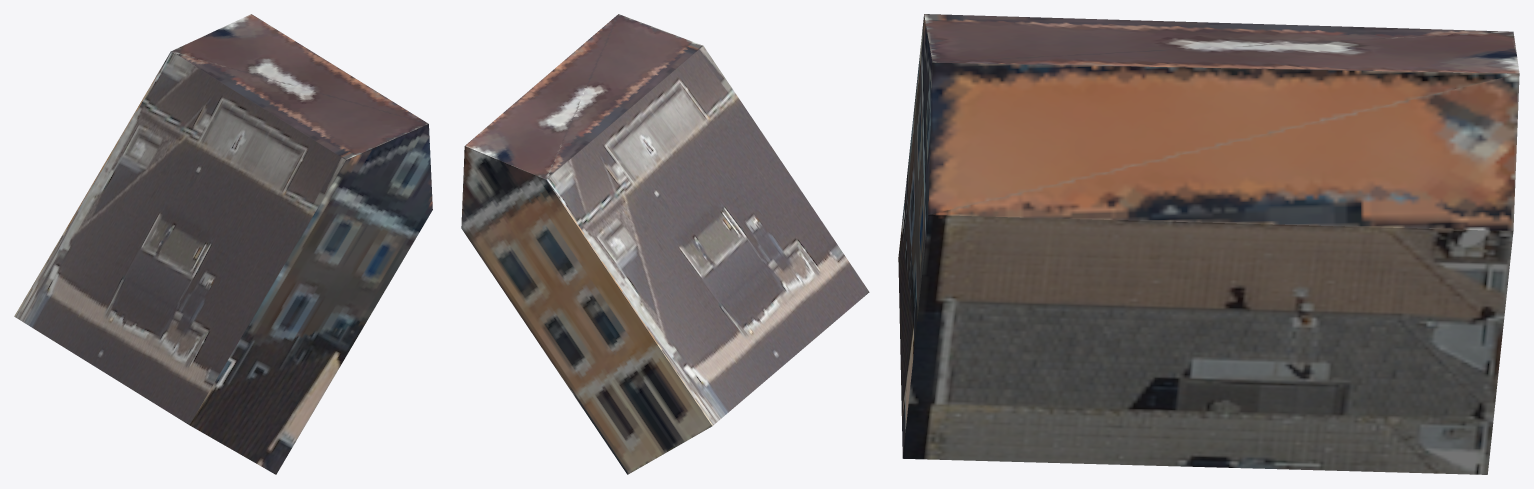
3 renders of one model, left to right at view 1: azimuth 30°, elevation 25°; view 2: azimuth 150°, elevation 25°; view 3: azimuth 270°, elevation 25°, orthographic. The views are drawn at different scales.
Visible parts, largest first — view 1: BAG_0599100000688734 (×2); view 2: BAG_0599100000688734 (×3); view 3: BAG_0599100000688734 (×2).
Boxes of the visible parts, x1,y1,x2,y2 form: BAG_0599100000688734 (×2): (14, 14, 432, 474); BAG_0599100000688734 (×3): (461, 14, 869, 474); BAG_0599100000688734 (×2): (898, 14, 1519, 474).
Bounding box in the file's own units: 10.79 × 12.68 × 12.85.
3 materials, 3 textured.
